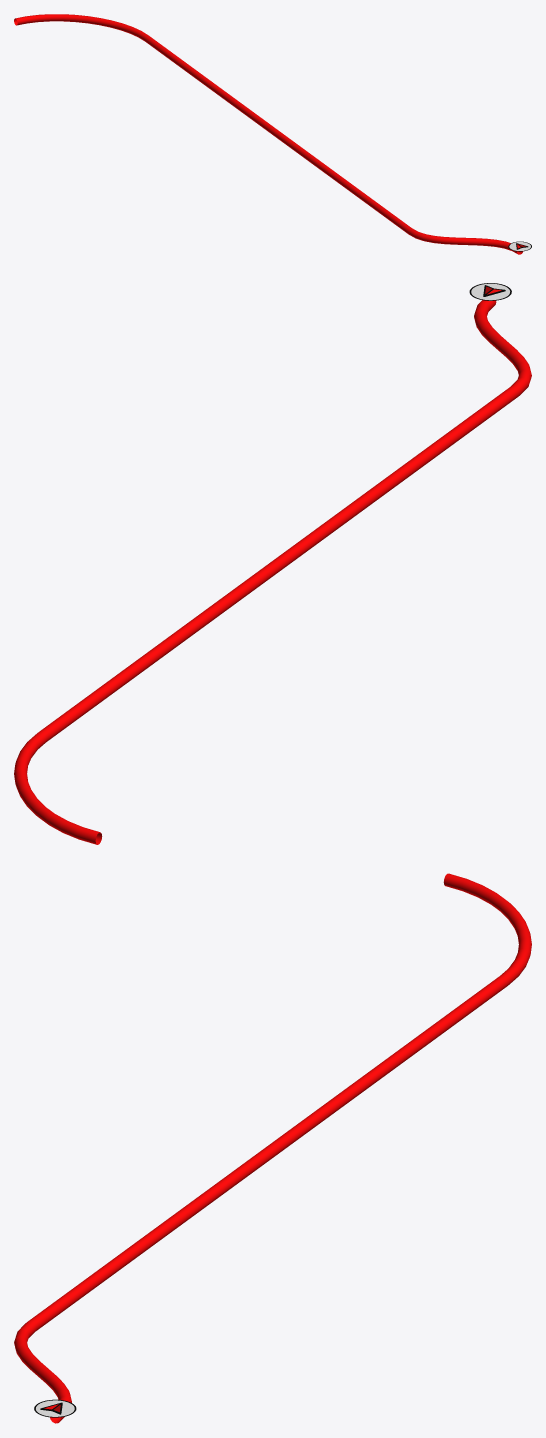
Rendered from route_e57b285d-121e-442e-b0b7-9870ba5d1609_de_single.glb.
3 views of the same model, one above another, from view 1: azimuth 30°, elevation 25°; view 2: azimuth 150°, elevation 25°; view 3: azimuth 330°, elevation 25° (orthographic). The views are drawn at different scales.
Parts seen in each view (by area): view 1: Holz; view 2: Holz; view 3: Holz.
Part boxes in pixels (x1,y1,x2,y2): Holz: (14,14,522,254); Holz: (14,300,531,844); Holz: (14,873,531,1423).
Bounding box in the file's own units: 1.94 × 0.1062 × 8.1.
